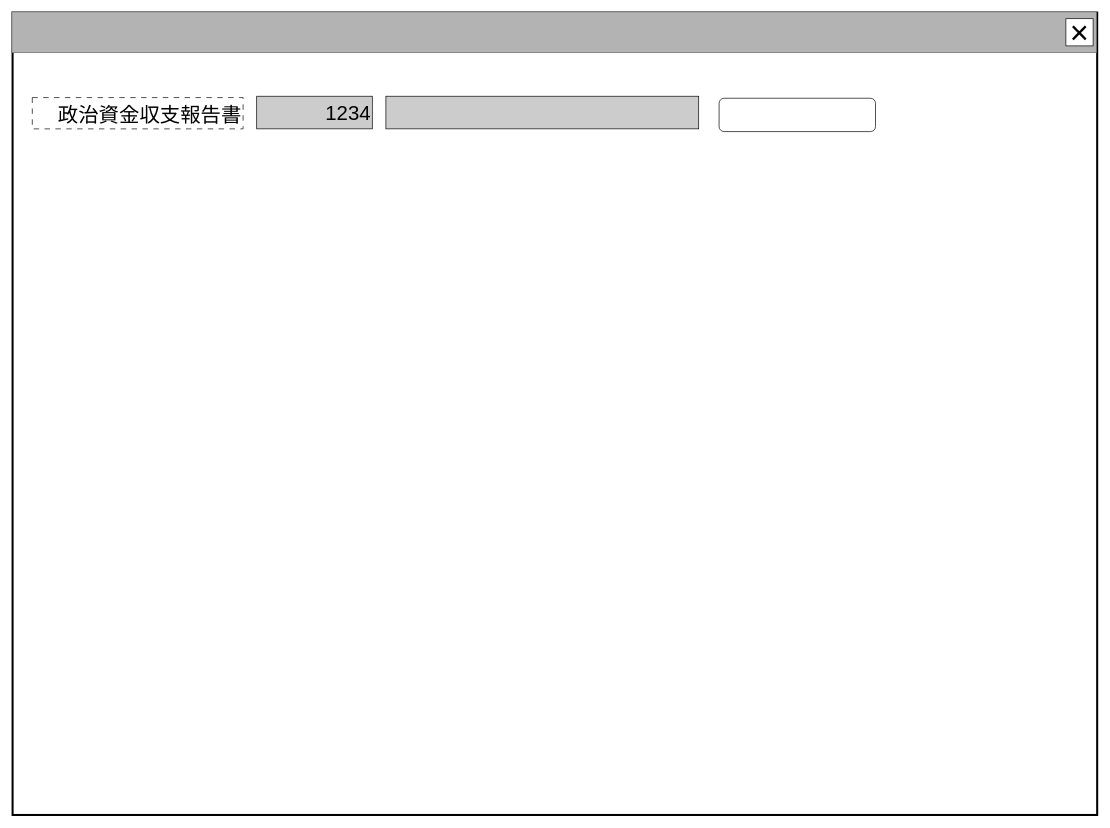
The diagram is 1110 pixels wide and 828 high, and some of its shapes have lost their labels. The shapes that lost their labels are listed below. From the top down, each one's centre as x and y in pixels, then its label:
At (x=542, y=112): "政治団体三郎君を応援する会".
At (x=797, y=115): "検索して指定".
